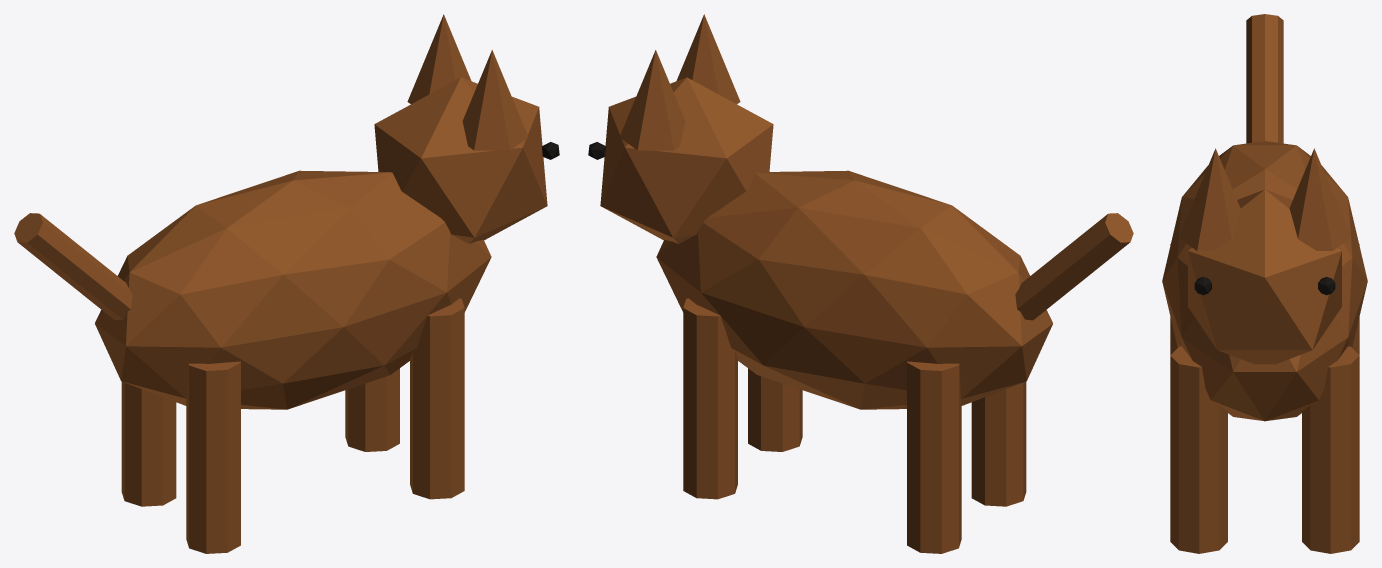
Rendered from perro.obj.
The picture shows the model from 3 angles, left to right: view 1: azimuth 30°, elevation 25°; view 2: azimuth 150°, elevation 25°; view 3: azimuth 270°, elevation 25°; orthographic projection.
Visible parts, largest first — view 1: perro; view 2: perro; view 3: perro.
Boxes of the visible parts, x1,y1,x2,y2 form: perro: (14,14,559,553); perro: (588,14,1133,553); perro: (1162,14,1367,553).
Bounding box in the file's own units: 1.49 × 1.14 × 0.5.
